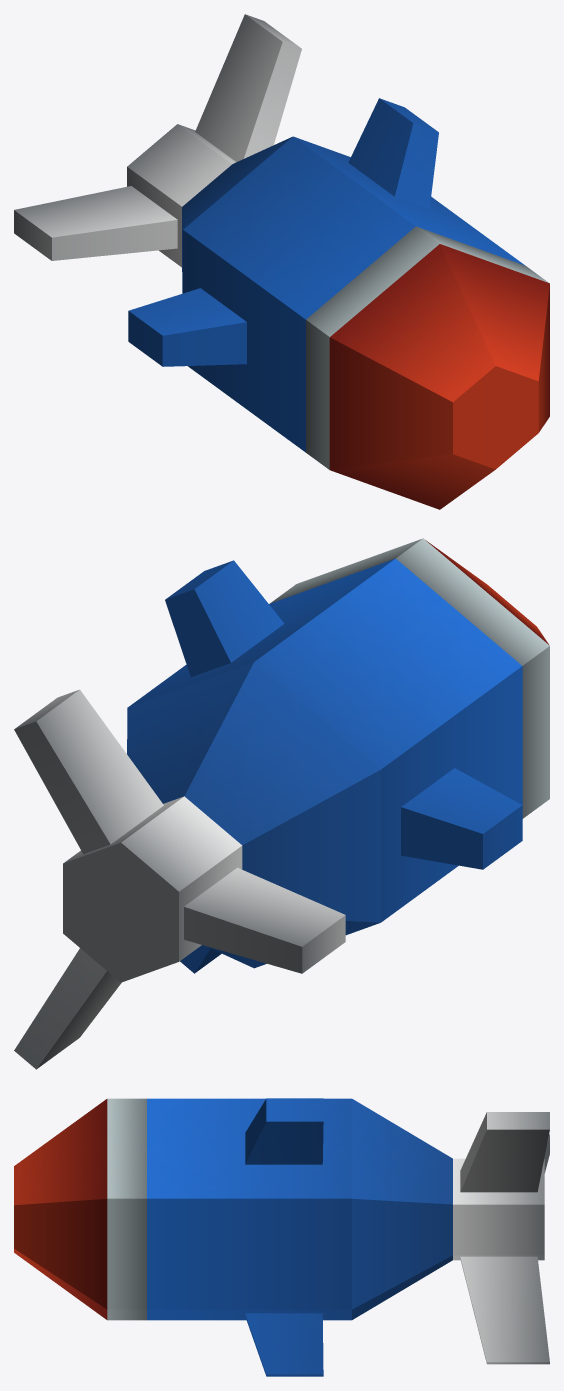
Rendered from player-rocket-1.fbx.
3 renders of one model, top to bottom at view 1: azimuth 30°, elevation 25°; view 2: azimuth 150°, elevation 25°; view 3: azimuth 270°, elevation 25°, orthographic. The views are drawn at different scales.
Visible parts, largest first — view 1: Cylinder.015; view 2: Cylinder.015; view 3: Cylinder.015.
Part boxes in pixels (left/top/right/bottom): Cylinder.015: left=14, top=14, right=549, bottom=509; Cylinder.015: left=14, top=538, right=549, bottom=1069; Cylinder.015: left=14, top=1098, right=549, bottom=1376.
Bounding box in the file's own units: 44.5 × 48.67 × 84.92.
